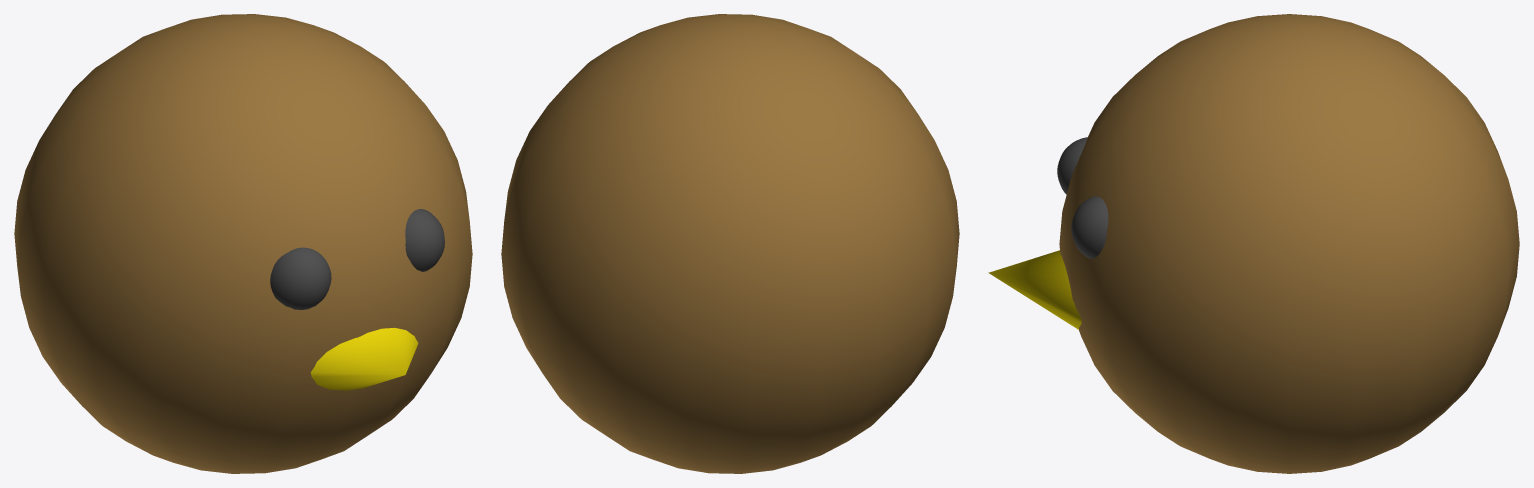
Rendered from Enemy.fbx.
3 views of the same model, side by side, from view 1: azimuth 30°, elevation 25°; view 2: azimuth 150°, elevation 25°; view 3: azimuth 270°, elevation 25° (orthographic).
Parts seen in each view (by area): view 1: pSphere4; view 2: pSphere4; view 3: pSphere4.
Part boxes in pixels (x1,y1,x2,y2): pSphere4: (14,14,472,473); pSphere4: (501,14,959,473); pSphere4: (988,14,1519,473).
Bounding box in the file's own units: 2 × 2 × 2.31.
